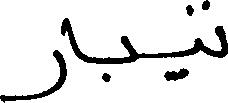X: (0, 13, 65, 102), (67, 13, 83, 65), (121, 31, 136, 68), (194, 0, 202, 58), (217, 21, 227, 62)
